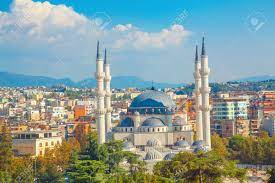Mosque: (91, 36, 217, 159)
